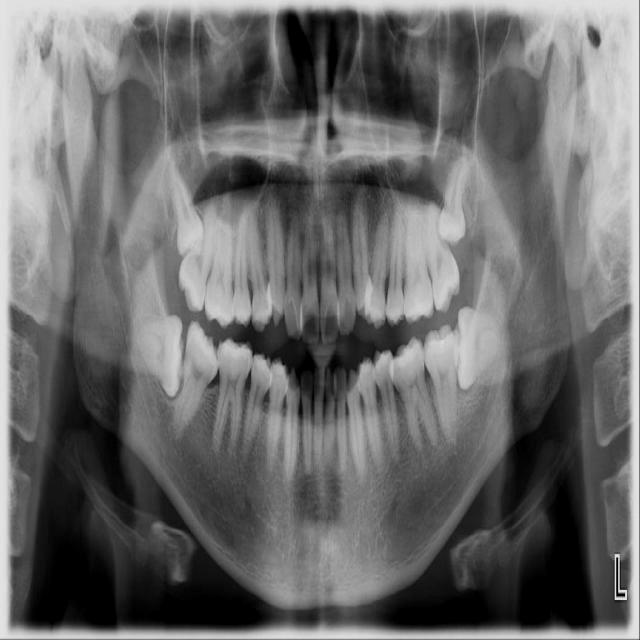impacted tooth: (131, 314, 183, 399), (165, 149, 205, 257), (457, 307, 504, 390), (437, 155, 472, 246)
